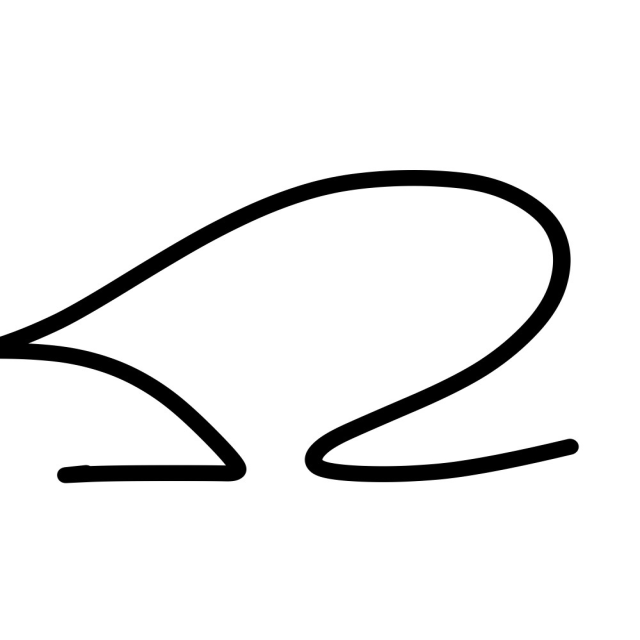ohms: (6, 67, 602, 529)
